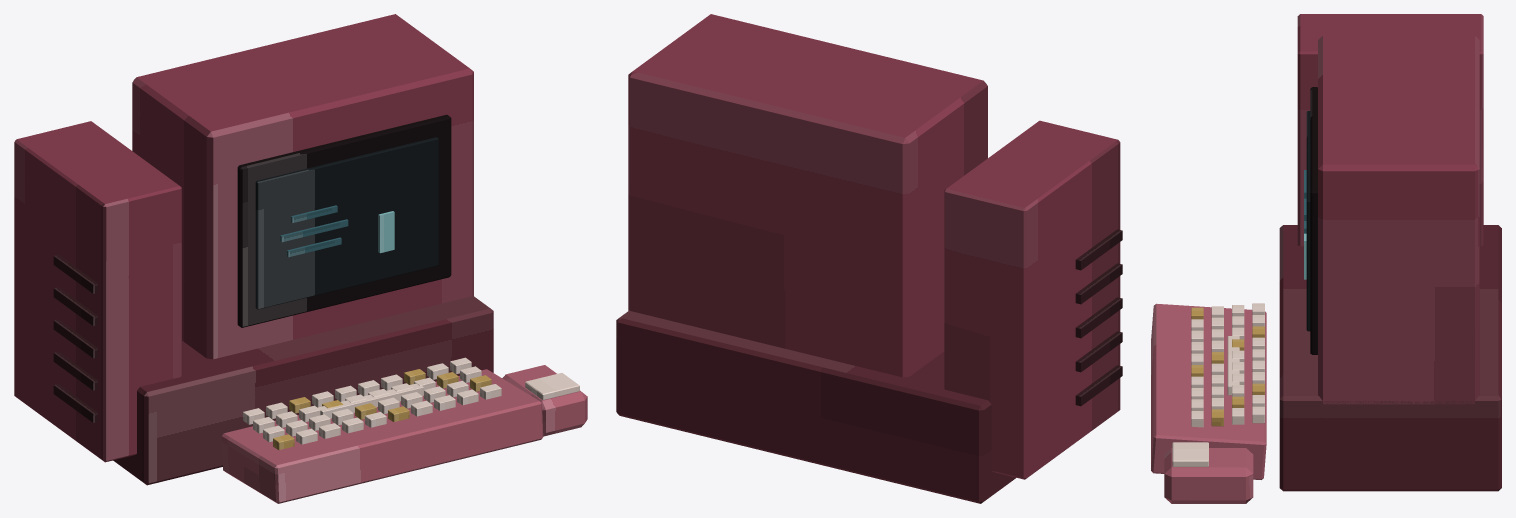
The model's file is retro_computer_compact_burgundy.glb.
3 views of the same model, side by side, from view 1: azimuth 30°, elevation 25°; view 2: azimuth 150°, elevation 25°; view 3: azimuth 270°, elevation 25° (orthographic). The views are drawn at different scales.
Parts seen in each view (by area): view 1: MonitorShell, SideExpansion, CompactBase, MonitorGlow, KeyboardBody, MonitorFace, Mouse, MouseButton, SpaceBar, ScreenGlyph_4, SideVent_1, SideVent_0 (+3 smaller); view 2: MonitorShell, SideExpansion, CompactBase, SideVent_3, SideVent_4, SideVent_0, SideVent_2, SideVent_1; view 3: MonitorShell, CompactBase, KeyboardBody, SideExpansion, Mouse, MonitorFace, MonitorGlow, MouseButton, SpaceBar.
Part boxes in pixels (x1,y1,x2,y2): MonitorShell: [132, 14, 473, 359]; SideExpansion: [14, 121, 181, 462]; CompactBase: [113, 295, 493, 485]; MonitorGlow: [255, 137, 438, 309]; KeyboardBody: [222, 369, 543, 503]; MonitorFace: [237, 114, 451, 327]; Mouse: [502, 365, 587, 436]; MouseButton: [525, 373, 579, 399]; SpaceBar: [318, 383, 423, 418]; ScreenGlyph_4: [378, 211, 394, 253]; SideVent_1: [53, 351, 98, 390]; SideVent_0: [53, 384, 98, 422]; MonitorShell: [628, 14, 987, 377]; SideExpansion: [944, 120, 1120, 479]; CompactBase: [616, 310, 1016, 503]; SideVent_3: [1075, 263, 1122, 304]; SideVent_4: [1075, 229, 1122, 270]; SideVent_0: [1075, 365, 1122, 406]; SideVent_2: [1075, 297, 1122, 338]; SideVent_1: [1075, 331, 1122, 372]; MonitorShell: [1318, 35, 1479, 404]; CompactBase: [1279, 225, 1501, 491]; KeyboardBody: [1151, 303, 1266, 479]; SideExpansion: [1297, 14, 1483, 246]; Mouse: [1164, 448, 1253, 503]; MonitorFace: [1310, 87, 1317, 354]; MonitorGlow: [1306, 111, 1310, 331]; MouseButton: [1172, 442, 1208, 466]; SpaceBar: [1227, 336, 1239, 395].
Size of the model in its own units: 1.25 by 0.89 by 0.8679.
Materials: 1 (1 with a texture image).
